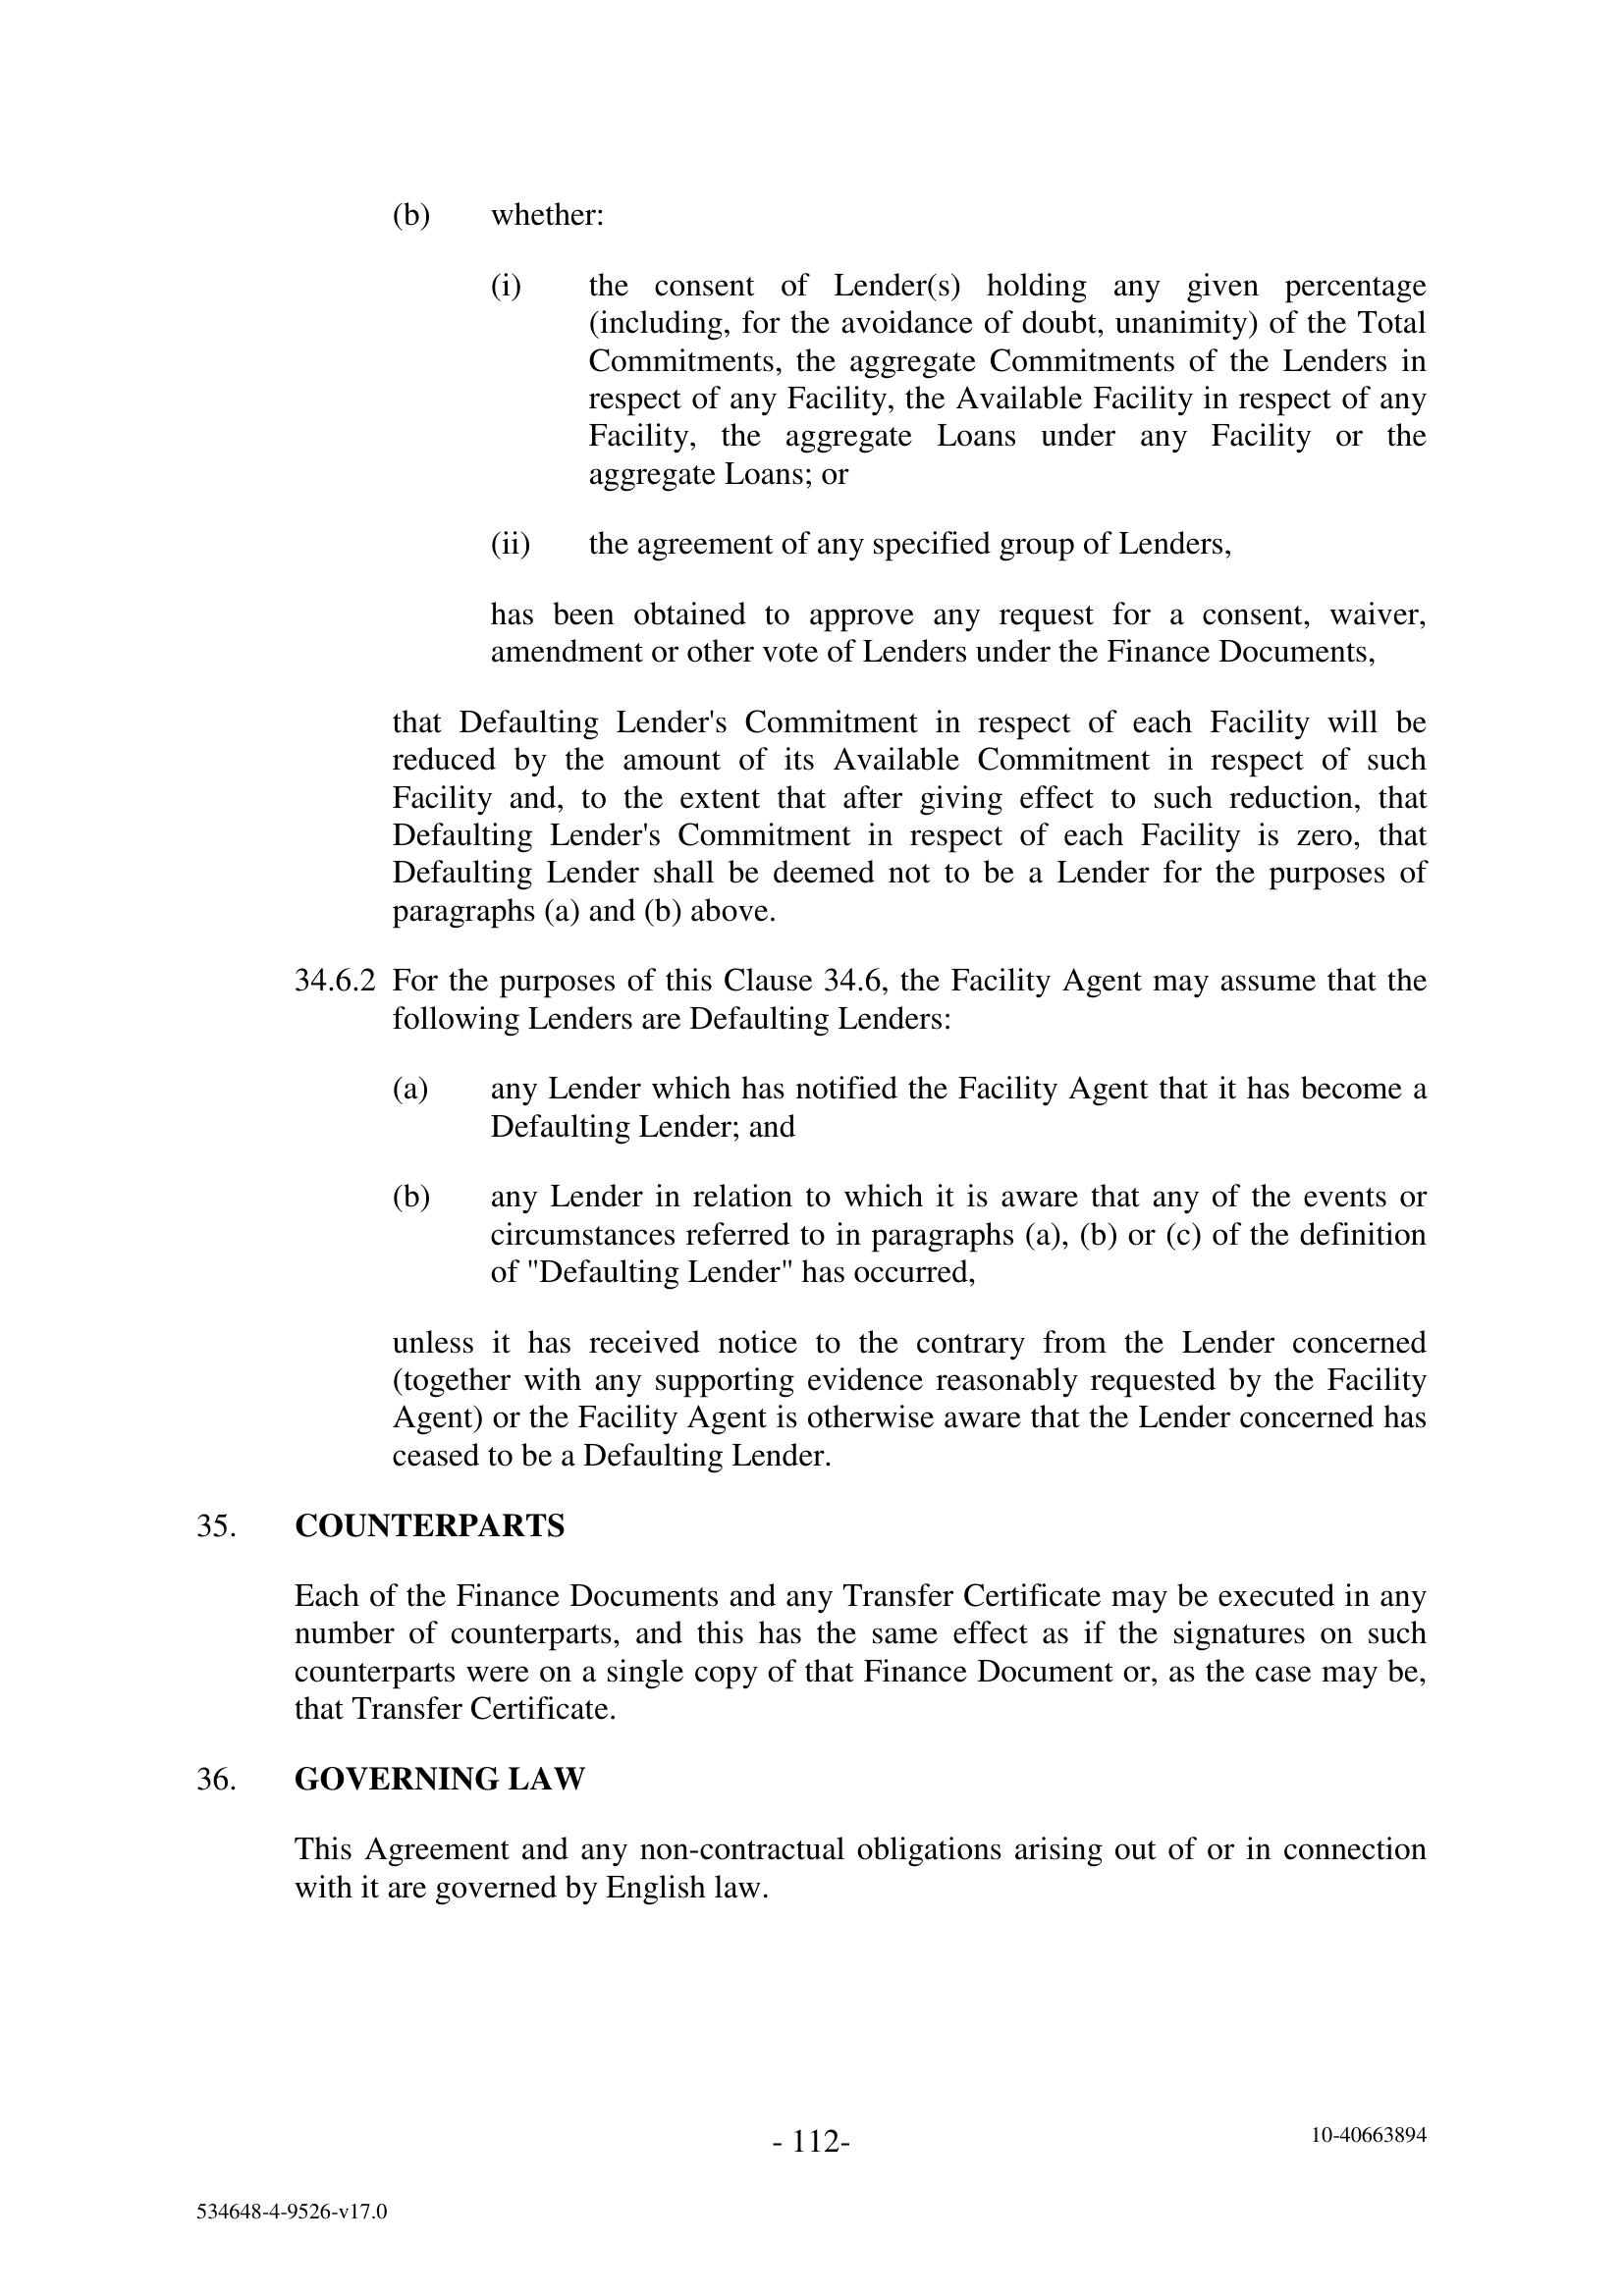pageno: (713, 2073, 912, 2213)
tag: (90, 2164, 460, 2259), (1198, 2092, 1537, 2177)
